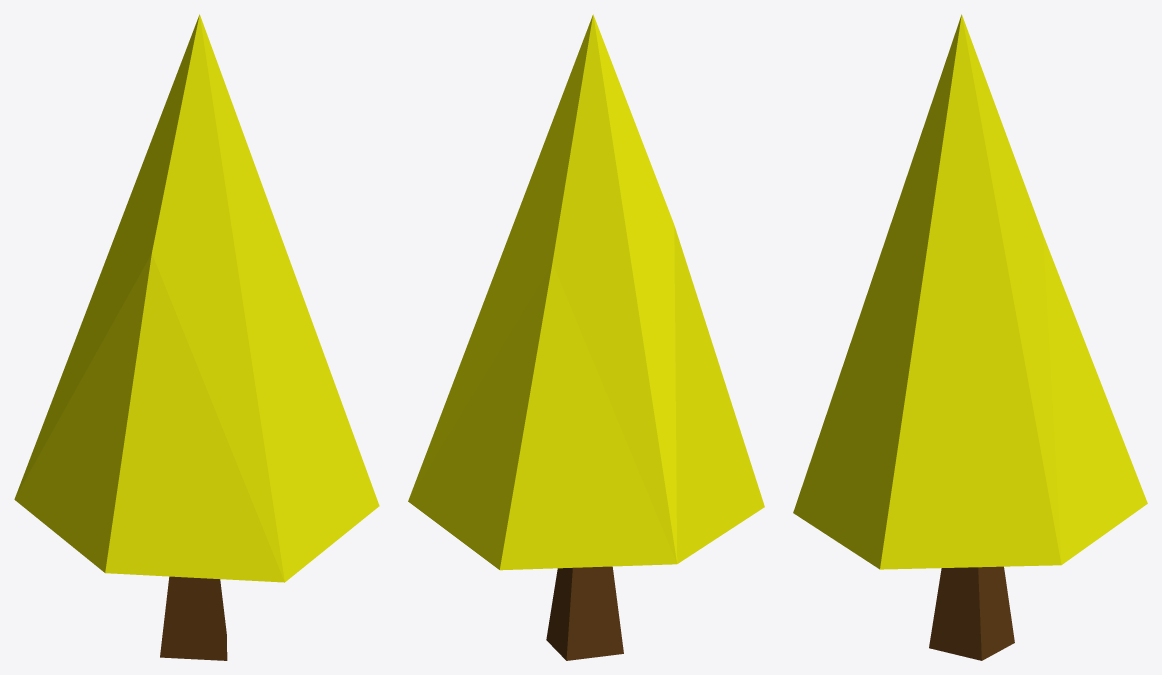
File: Tree2.FBX
The picture shows the model from 3 angles, left to right: view 1: azimuth 30°, elevation 25°; view 2: azimuth 150°, elevation 25°; view 3: azimuth 270°, elevation 25°; orthographic projection.
Visible parts, largest first — view 1: PineTree_LOD3; view 2: PineTree_LOD3; view 3: PineTree_LOD3.
Part boxes in pixels (x1,y1,x2,y2): PineTree_LOD3: [14, 14, 379, 660]; PineTree_LOD3: [408, 14, 764, 660]; PineTree_LOD3: [793, 14, 1147, 660].
Bounding box in the file's own units: 33.92 × 75.52 × 38.58.
